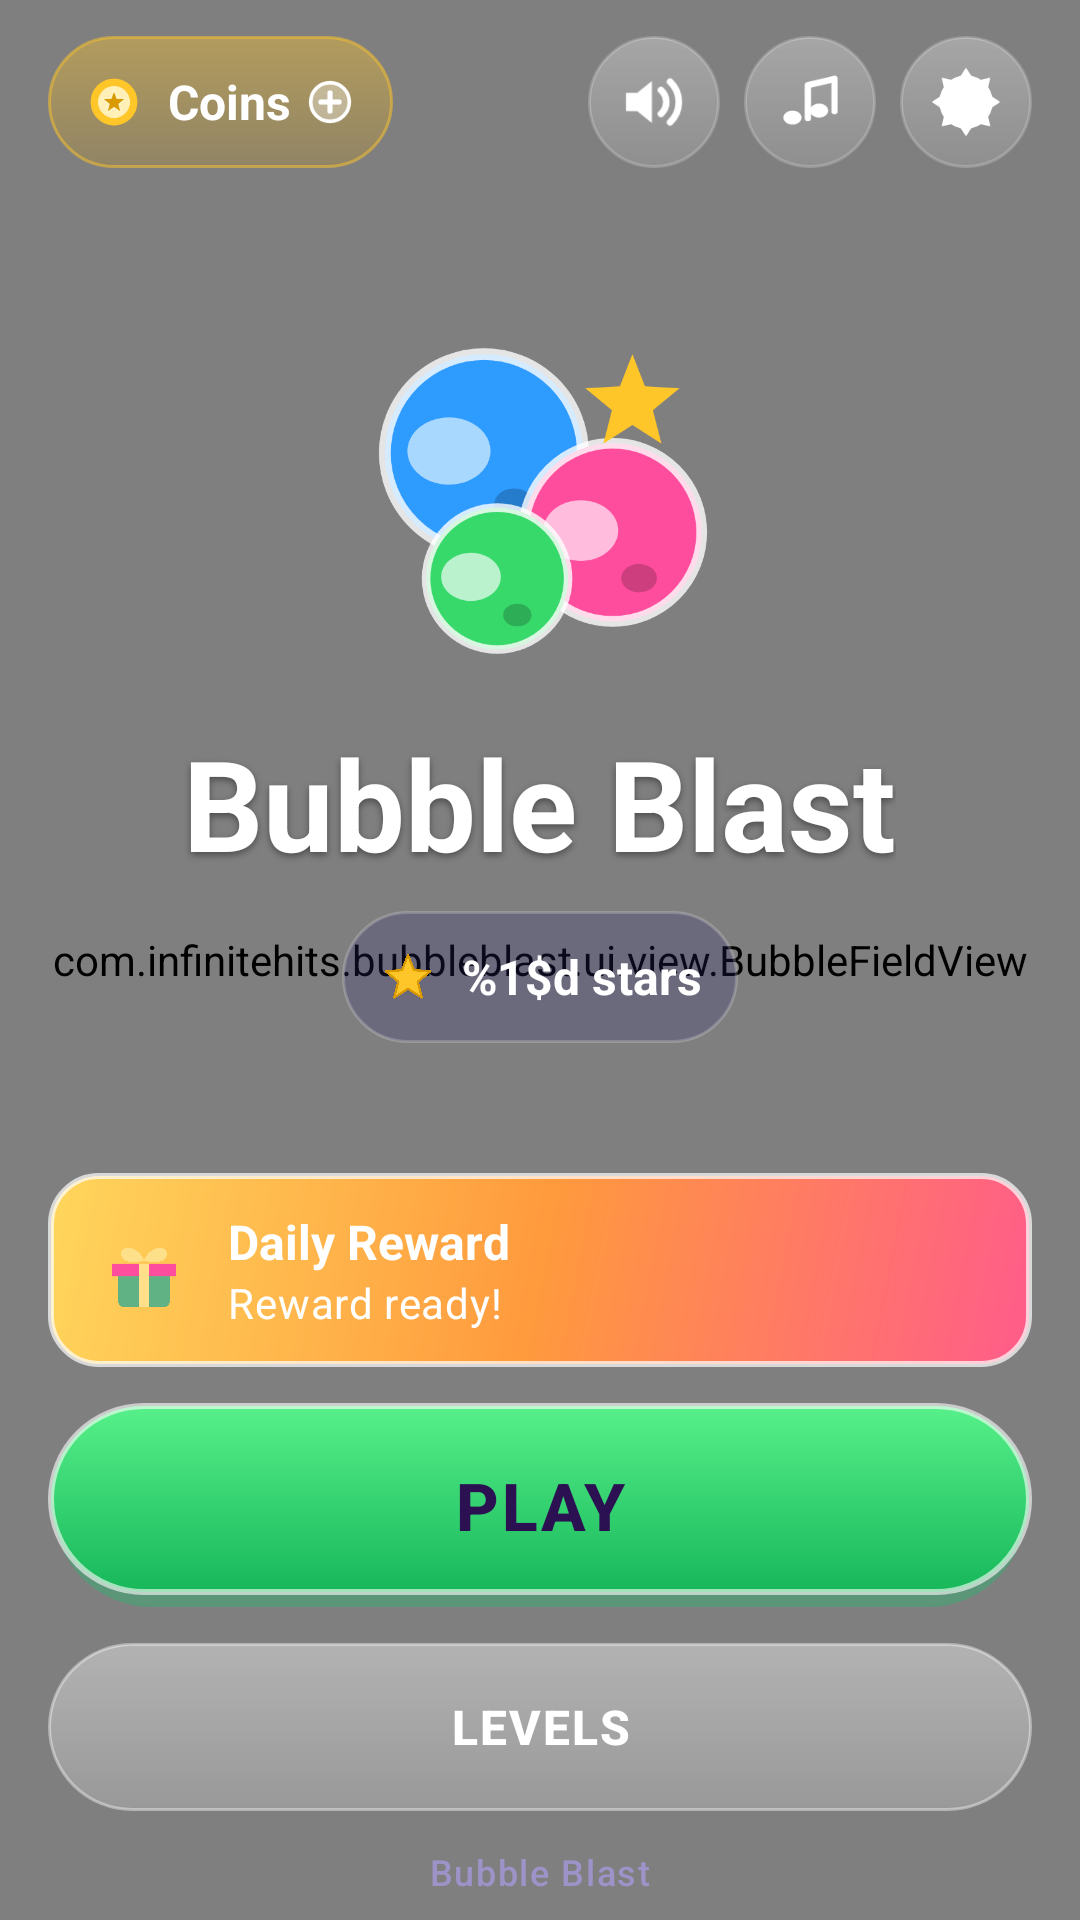

Screen size 1080w x 1920h. Icon name, then its center in pixels as (x,y):
gift: (144,1277)
Music: (810,102)
Open settings: (966,102)
plus circle: (329,102)
Sound: (654,102)
